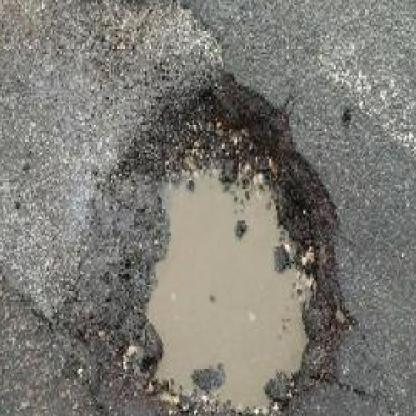pothole: (114, 82, 335, 416)
